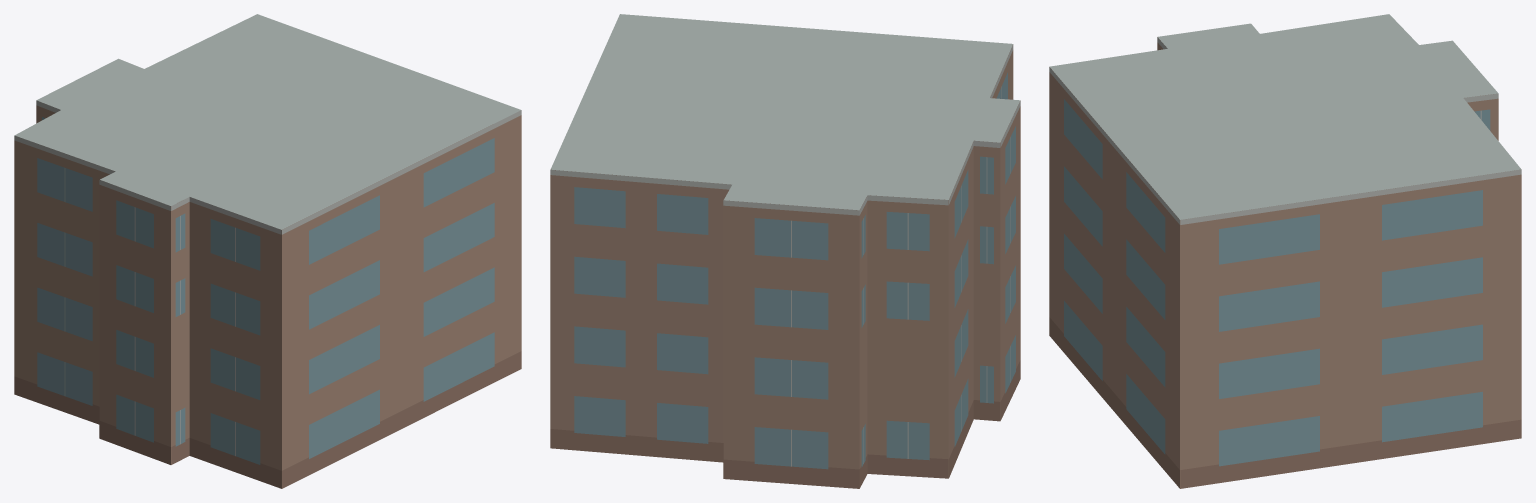
File: survey-upis-32945523.glb
The picture shows the model from 3 angles, left to right: view 1: azimuth 30°, elevation 25°; view 2: azimuth 150°, elevation 25°; view 3: azimuth 270°, elevation 25°; orthographic projection. The views are drawn at different scales.
Parts seen in each view (by area): view 1: survey-upis-32945523.tmp; view 2: survey-upis-32945523.tmp; view 3: survey-upis-32945523.tmp.
Part boxes in pixels (left/top/right/bottom): survey-upis-32945523.tmp: left=14, top=14, right=521, bottom=488; survey-upis-32945523.tmp: left=550, top=14, right=1020, bottom=488; survey-upis-32945523.tmp: left=1049, top=14, right=1521, bottom=488.
Bounding box in the file's own units: 20.87 × 12.7 × 20.22.
